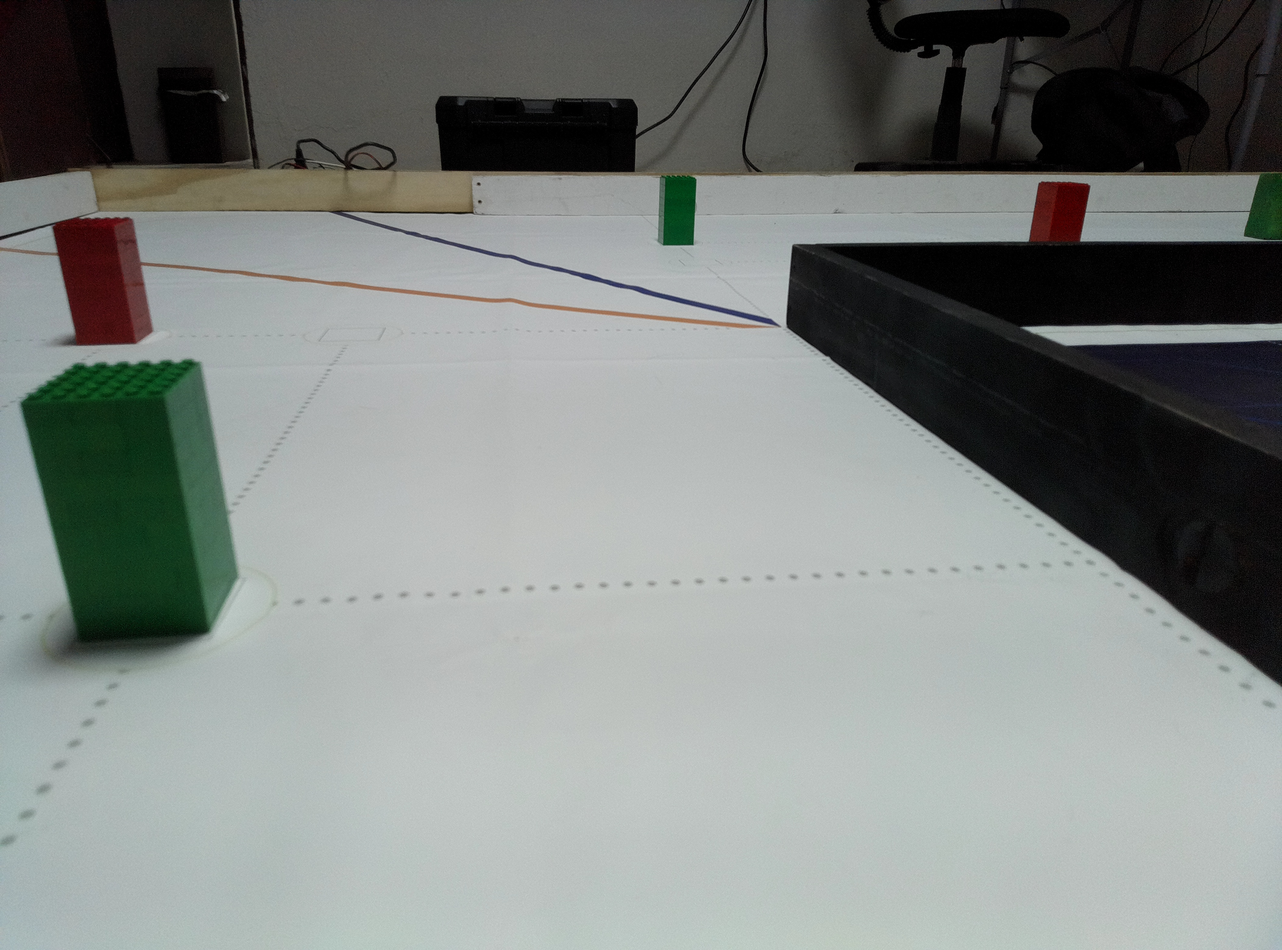greenbox: (15, 359, 247, 641), (657, 175, 697, 245), (1243, 172, 1282, 240)
redbox: (51, 216, 155, 346), (1028, 181, 1091, 242)
